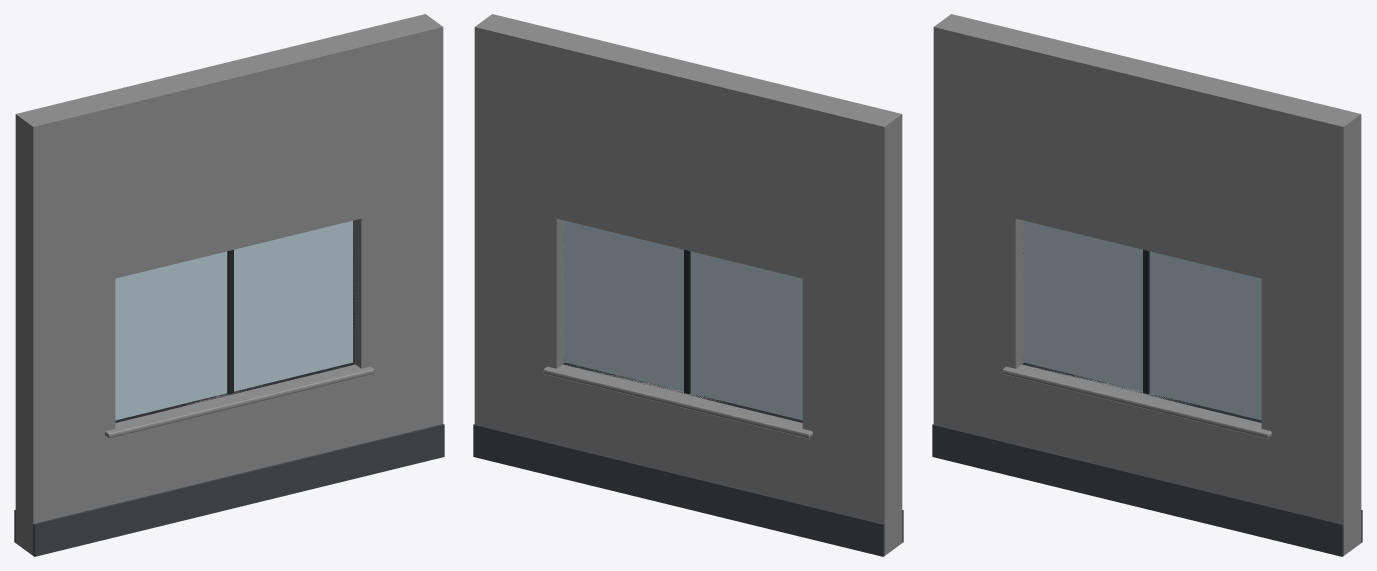
File: Wall_Plaster_Window_4m.fbx
The picture shows the model from 3 angles, left to right: view 1: azimuth 30°, elevation 25°; view 2: azimuth 150°, elevation 25°; view 3: azimuth 330°, elevation 25°; orthographic projection.
Visible parts, largest first — view 1: Wall_Plaster_Window_4m_LOD0; view 2: Wall_Plaster_Window_4m_LOD0; view 3: Wall_Plaster_Window_4m_LOD0.
Boxes of the visible parts, box(x1,y1,x2,y2) form: Wall_Plaster_Window_4m_LOD0: box(14, 14, 444, 556); Wall_Plaster_Window_4m_LOD0: box(473, 14, 903, 556); Wall_Plaster_Window_4m_LOD0: box(932, 14, 1362, 556).
Size of what is drawn, in the model's own units: 4 by 4 by 0.42.
